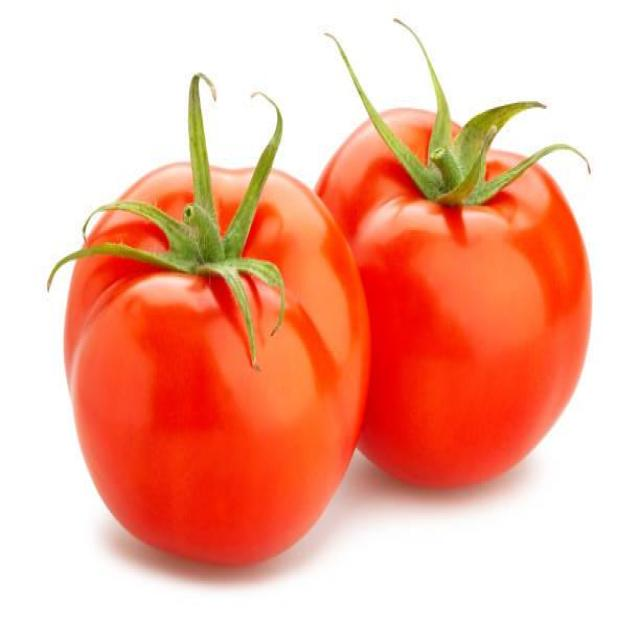Tomato: (48, 77, 369, 557), (317, 102, 590, 487)
